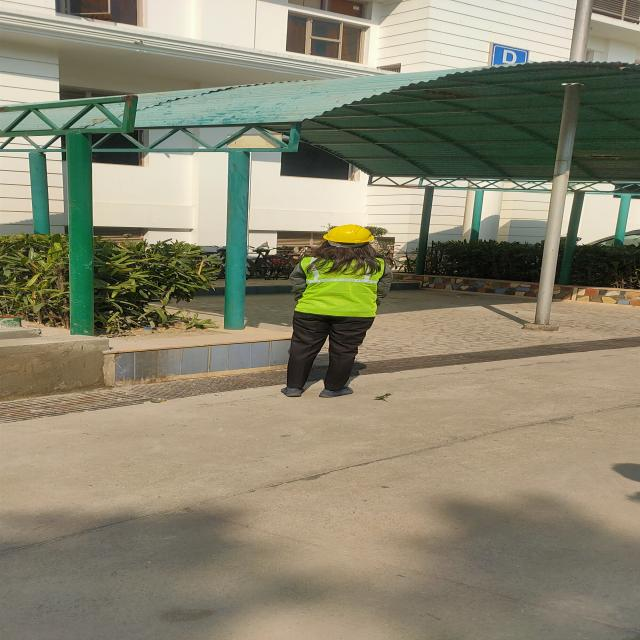safe: (289, 225, 393, 398)
